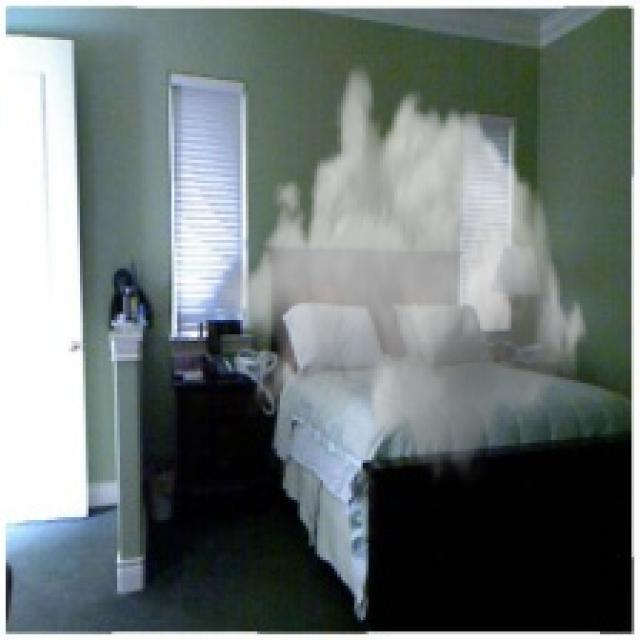Smoke: (217, 60, 592, 486)
